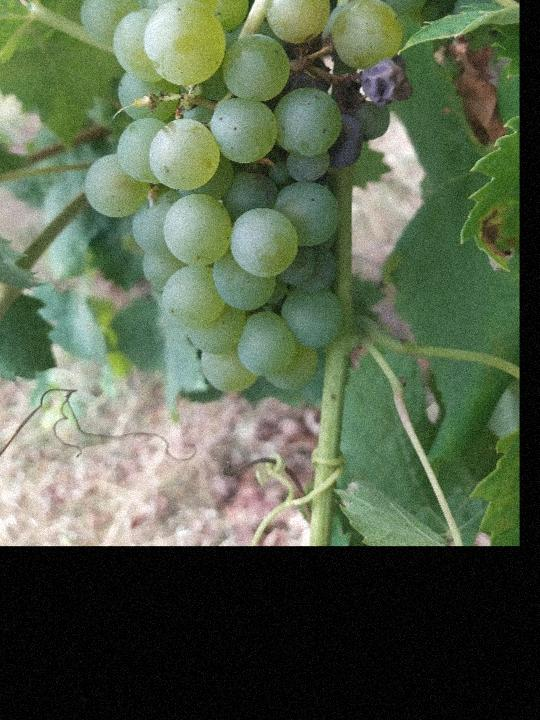grape: (78, 0, 407, 396)
